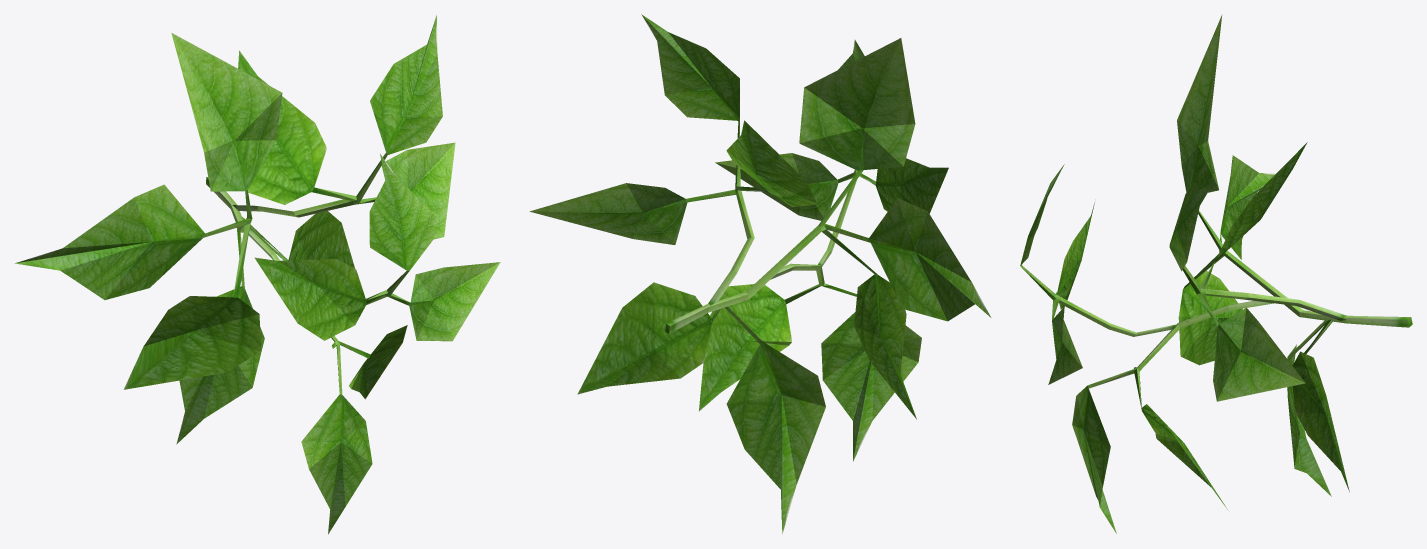
Rendered from bean_big.obj.
3 views of the same model, side by side, from view 1: azimuth 30°, elevation 25°; view 2: azimuth 150°, elevation 25°; view 3: azimuth 270°, elevation 25° (orthographic). The views are drawn at different scales.
Parts seen in each view (by area): view 1: bean_big_unit.001_Plane.003; view 2: bean_big_unit.001_Plane.003; view 3: bean_big_unit.001_Plane.003.
Part boxes in pixels (x1,y1,x2,y2): bean_big_unit.001_Plane.003: (14,15,500,534); bean_big_unit.001_Plane.003: (529,14,991,533); bean_big_unit.001_Plane.003: (1020,14,1412,533).
Bounding box in the file's own units: 0.2789 × 0.2882 × 0.2169.
Materials: 1 (1 with a texture image).
